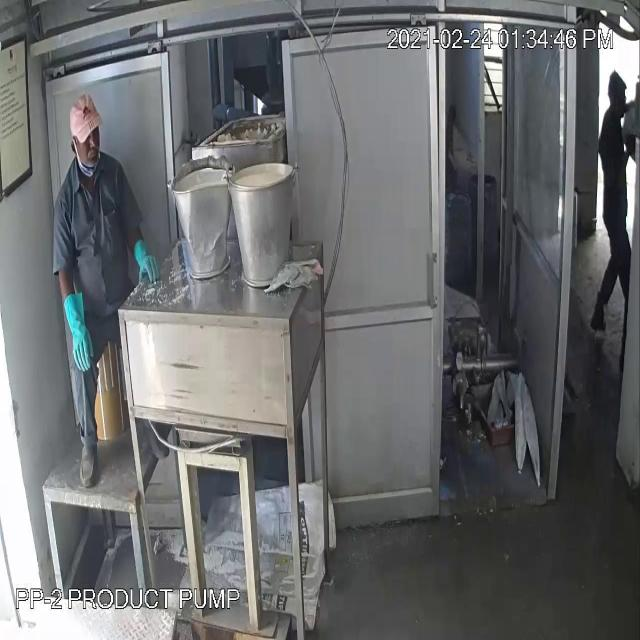no-helmet: (64, 84, 106, 150)
